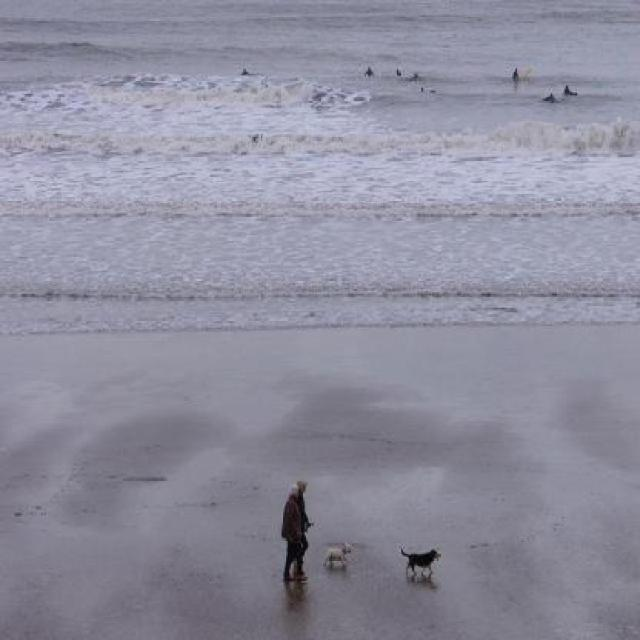Person: (280, 486, 308, 582), (292, 477, 316, 580), (564, 84, 578, 96), (364, 67, 374, 78), (544, 93, 556, 102), (410, 72, 419, 80), (513, 67, 519, 78), (255, 134, 260, 144), (241, 70, 248, 76), (420, 86, 426, 92), (396, 69, 401, 76)
